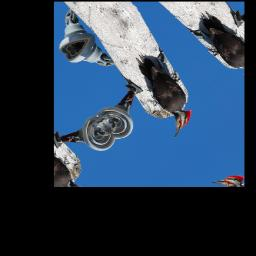Woodpecker: (117, 44, 213, 141)
